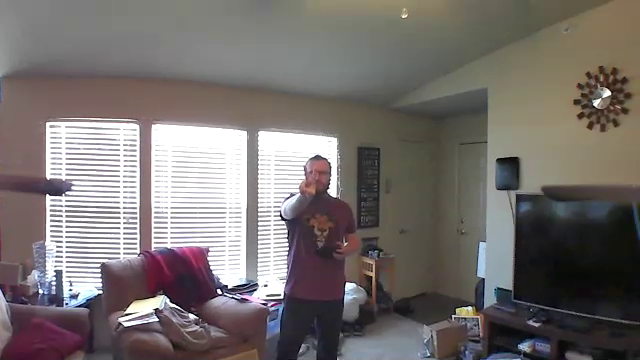peace: (297, 160, 320, 203)
